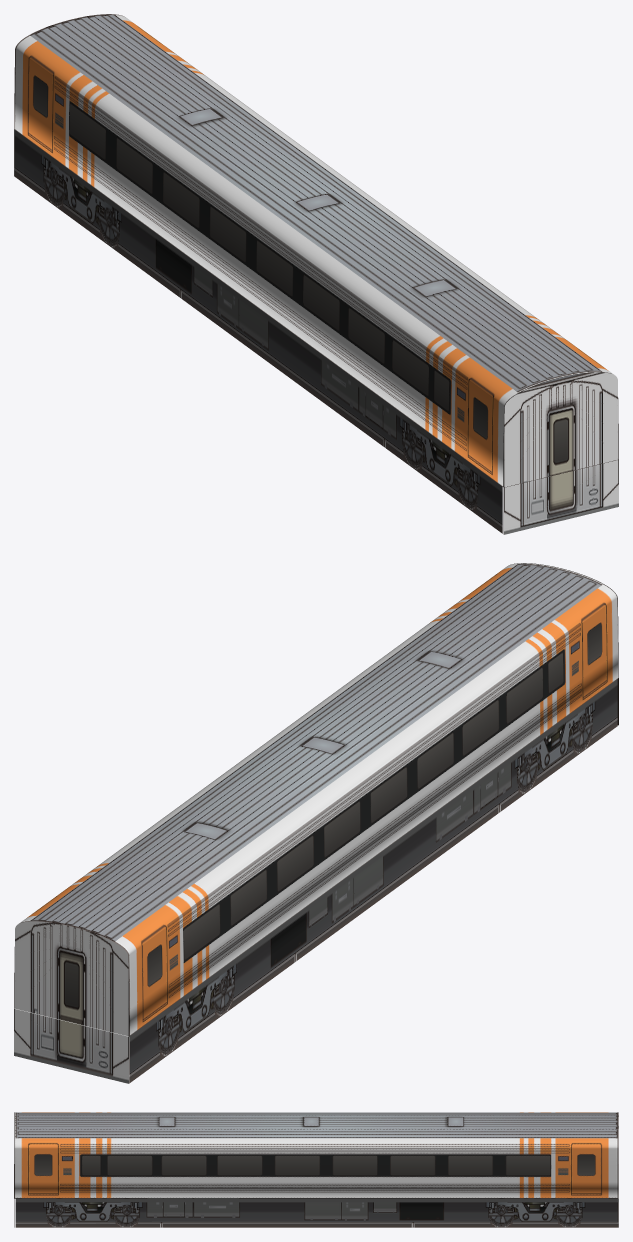
File: car2.glb
The picture shows the model from 3 angles, top to bottom: view 1: azimuth 30°, elevation 25°; view 2: azimuth 150°, elevation 25°; view 3: azimuth 270°, elevation 25°; orthographic projection. The views are drawn at different scales.
Visible parts, largest first — view 1: jr-shikoku-8000-car2; view 2: jr-shikoku-8000-car2; view 3: jr-shikoku-8000-car2.
Boxes of the visible parts, <box> form: jr-shikoku-8000-car2: <box>14,14,618,534</box>; jr-shikoku-8000-car2: <box>14,563,618,1083</box>; jr-shikoku-8000-car2: <box>14,1112,618,1227</box>.
Bounding box in the file's own units: 2.82 × 3.36 × 20.83.
9 materials, 8 textured.
